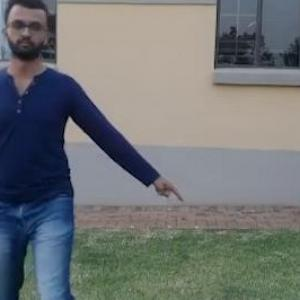land: (1, 20, 175, 299)
